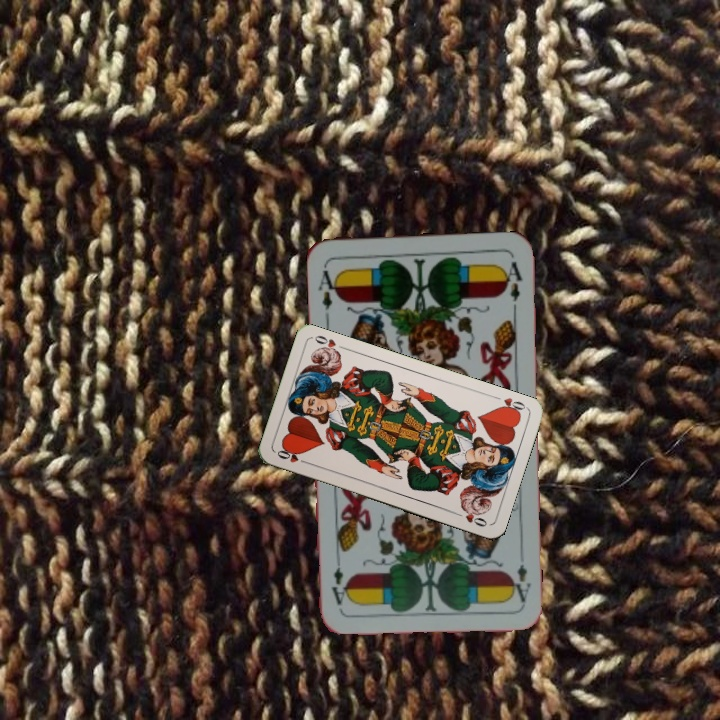EA: (314, 261, 341, 313), (507, 560, 533, 605)
HO: (494, 393, 529, 417), (273, 446, 312, 467)
